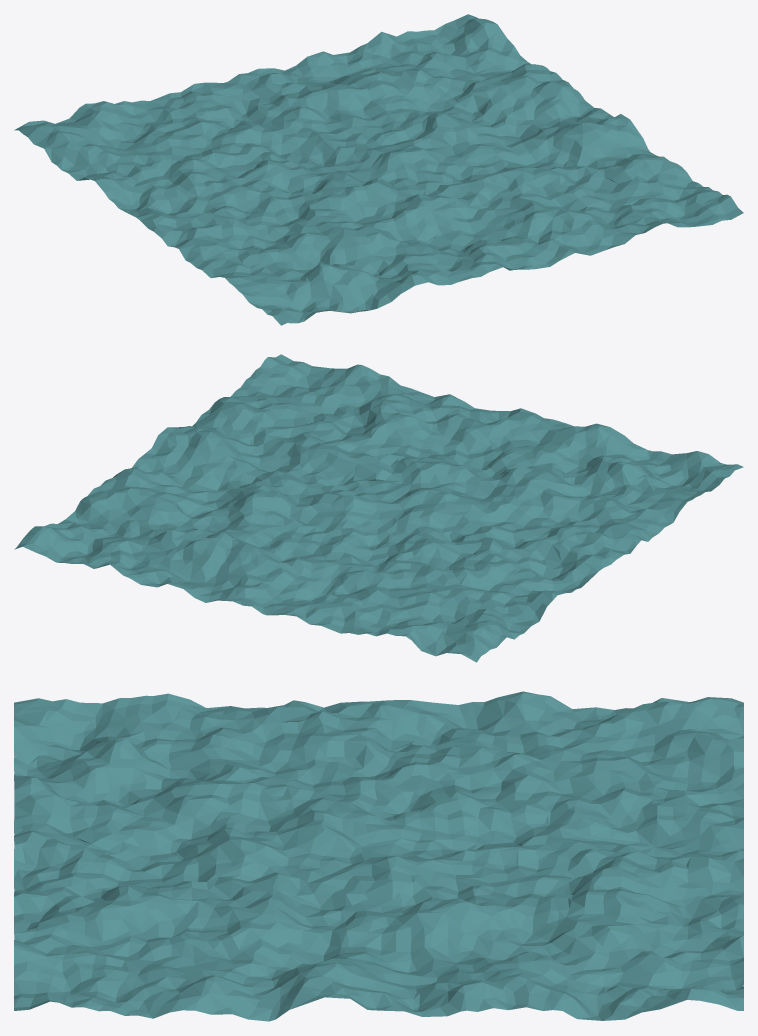
Rendered from BasicOcean.fbx.
3 views of the same model, one above another, from view 1: azimuth 30°, elevation 25°; view 2: azimuth 150°, elevation 25°; view 3: azimuth 270°, elevation 25° (orthographic). The views are drawn at different scales.
Visible parts, largest first — view 1: Ocean; view 2: Ocean; view 3: Ocean.
Boxes of the visible parts, left/top/right/bottom form: Ocean: left=14, top=14, right=743, bottom=325; Ocean: left=14, top=354, right=743, bottom=662; Ocean: left=14, top=691, right=743, bottom=1021.
Size of the model in its own units: 1520 by 85.04 by 1520.
